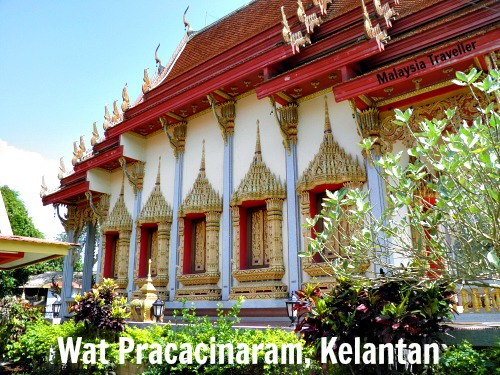Buddhist Temple: (33, 6, 482, 301)
